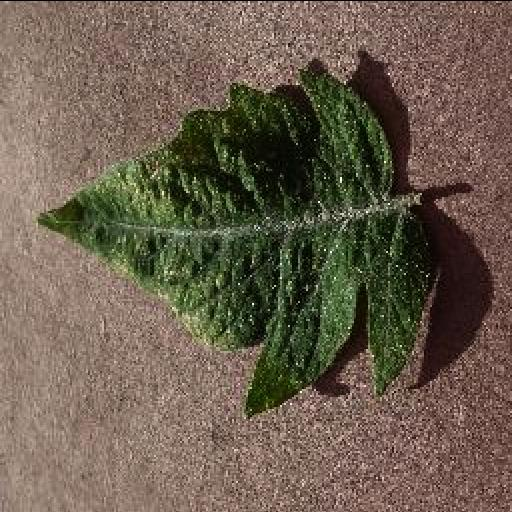disease_tomato: (34, 58, 436, 420)
